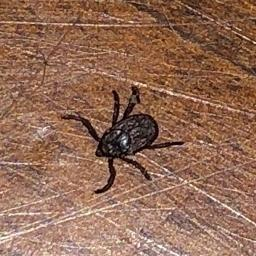Rhipicephalus sanguineus: (62, 83, 183, 195)
